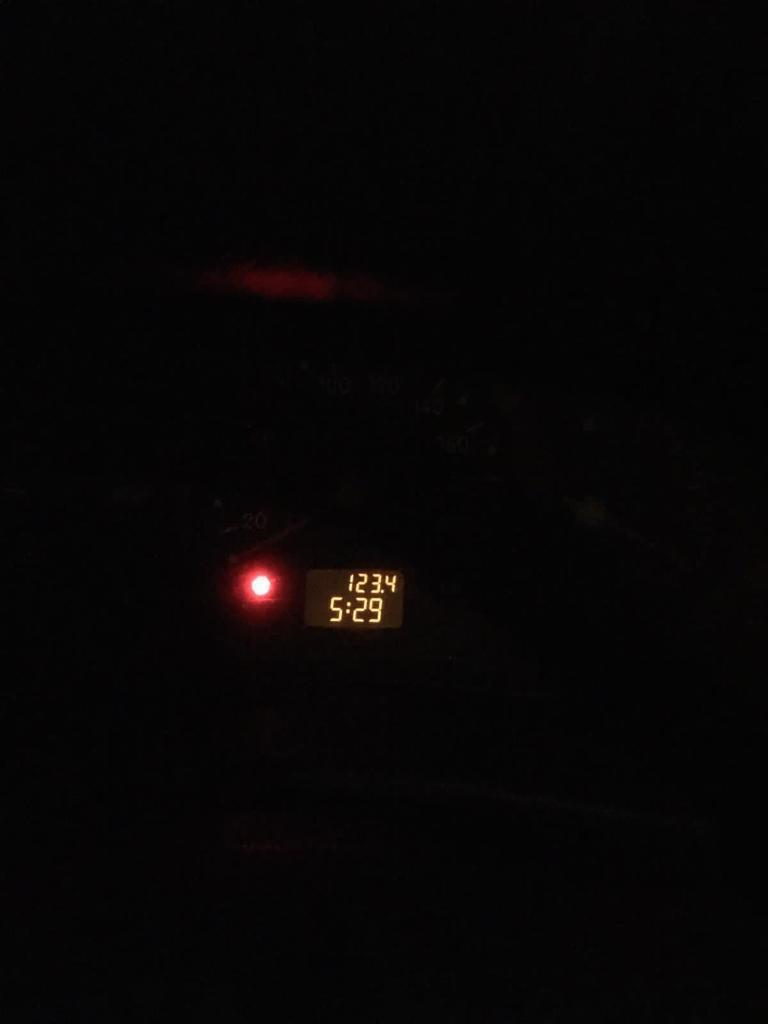,: (380, 589, 384, 593)
1: (347, 573, 354, 592)
2: (351, 597, 367, 622), (355, 572, 368, 593)
3: (370, 573, 381, 593)
4: (384, 574, 396, 592)
5: (328, 596, 343, 621)
9: (368, 597, 383, 622)
X: (345, 601, 351, 614)
odometer: (300, 566, 407, 629)
